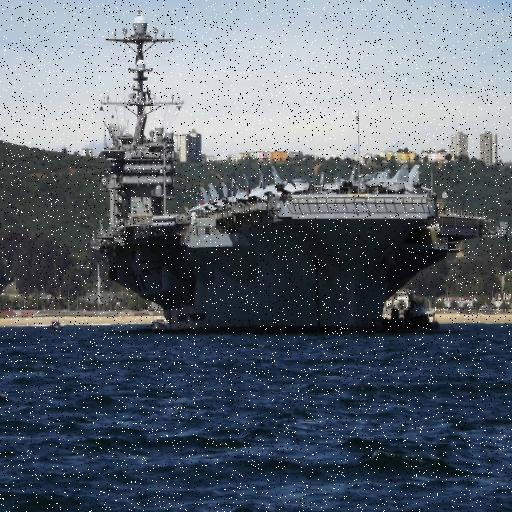Portanaves: (85, 1, 512, 339)
